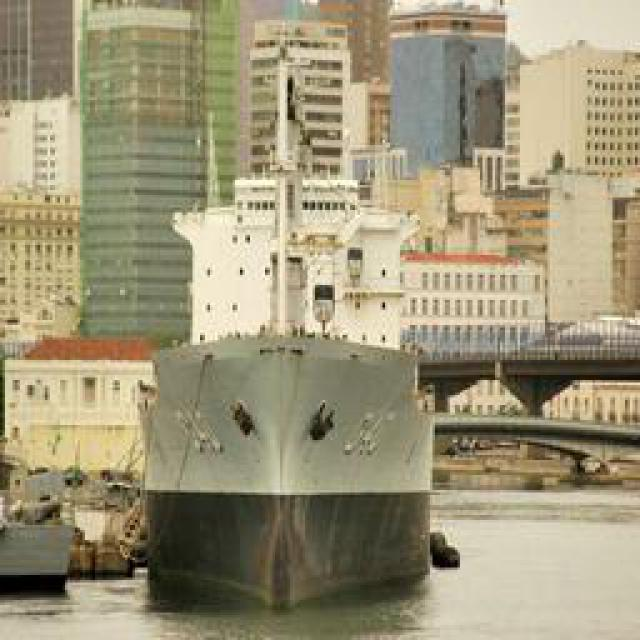Ship: (135, 292, 445, 612)
